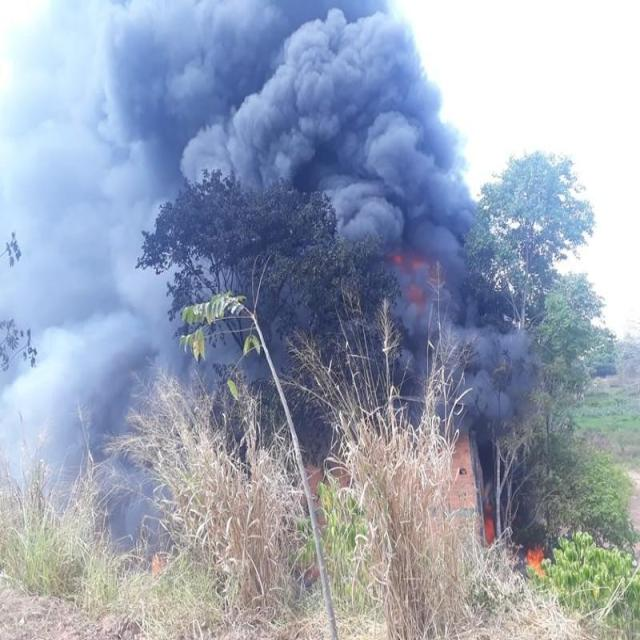Fire: (522, 539, 552, 576)
